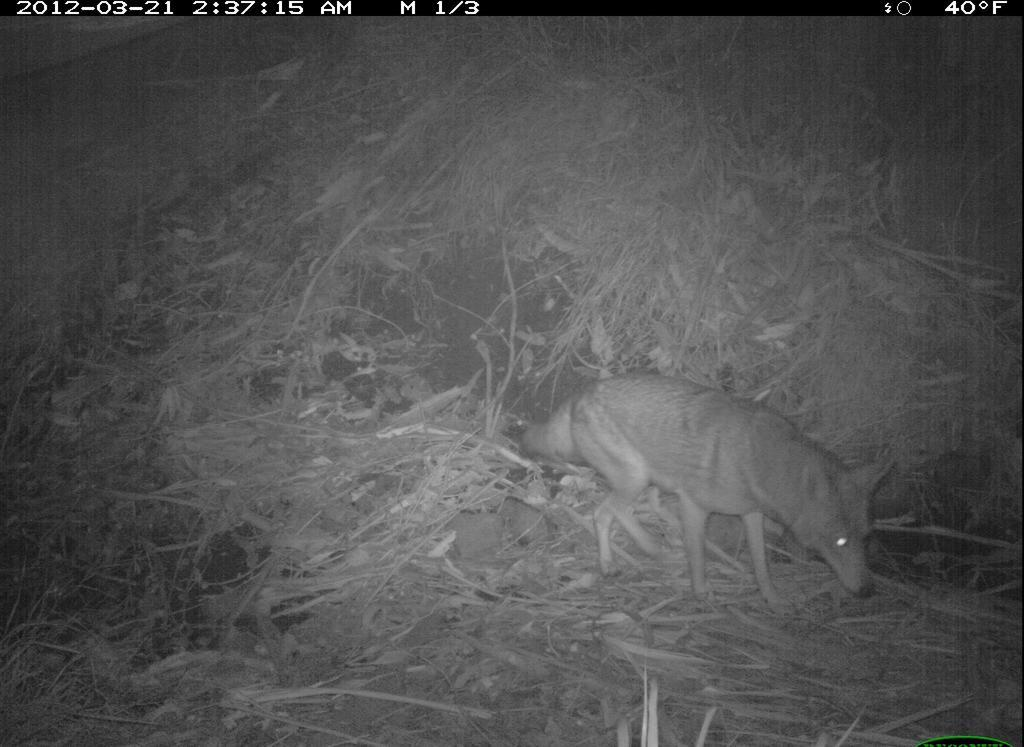coyote: (507, 363, 891, 626)
